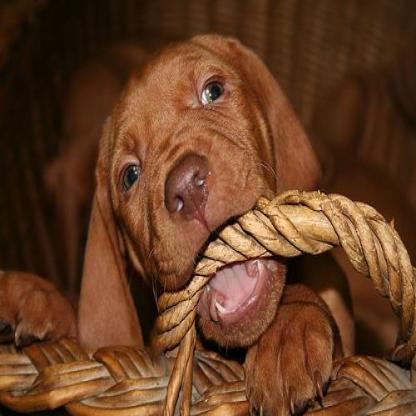vizsla: (0, 25, 359, 413)
